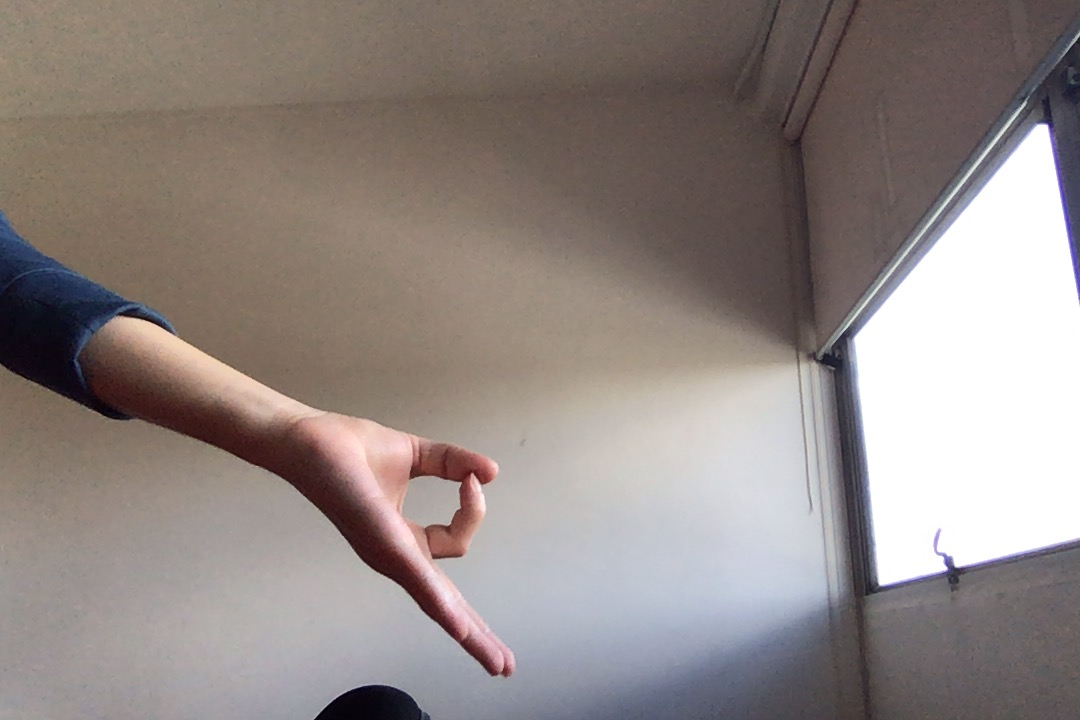oksign: (303, 395, 528, 685)
